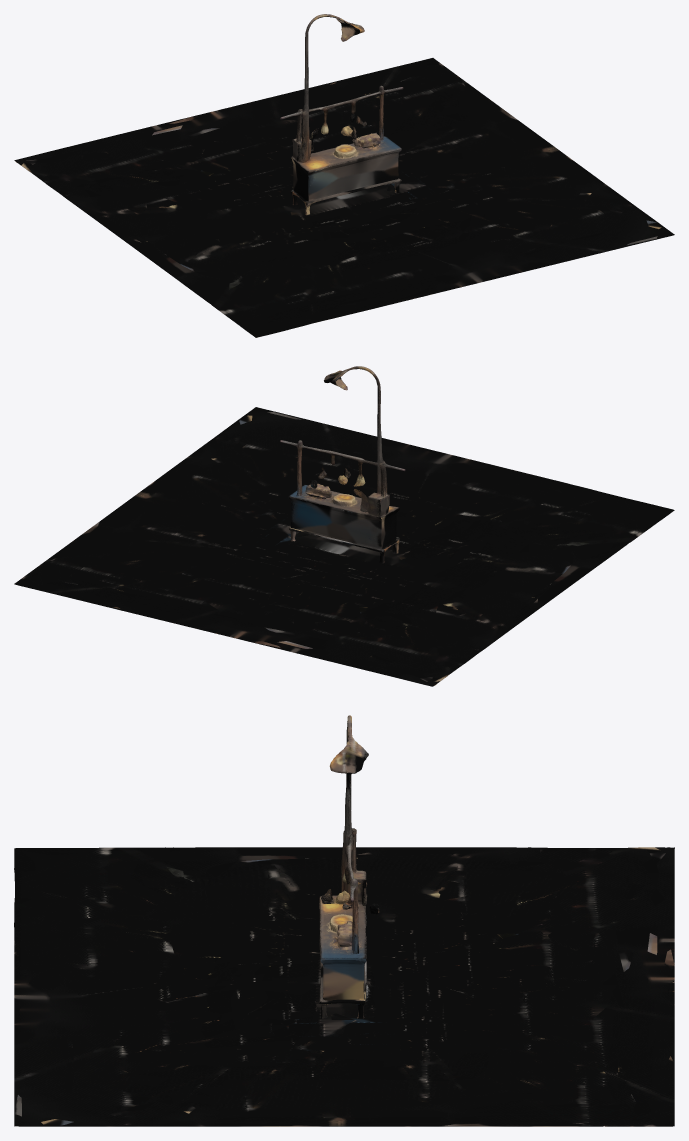
3 views of the same model, one above another, from view 1: azimuth 30°, elevation 25°; view 2: azimuth 150°, elevation 25°; view 3: azimuth 270°, elevation 25° (orthographic). The views are drawn at different scales.
Parts seen in each view (by area): view 1: world; view 2: world; view 3: world.
Part boxes in pixels (x1,y1,x2,y2): world: [14, 14, 674, 337]; world: [14, 366, 674, 686]; world: [14, 715, 674, 1126].
Size of the model in its own units: 100 by 42.97 by 100.
1 material, 1 textured.
